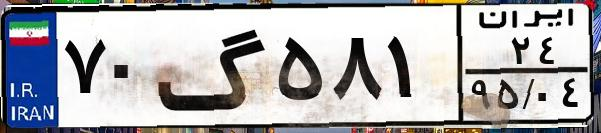0: (110, 28, 156, 98), (535, 70, 560, 125)
1: (385, 28, 445, 110)
2: (508, 27, 537, 80)
4: (560, 70, 590, 125), (537, 27, 568, 80)
5: (270, 28, 330, 110), (495, 70, 520, 125)
7: (57, 26, 110, 100)
8: (330, 28, 385, 110)
9: (470, 70, 495, 125)
گ: (156, 12, 270, 120)
